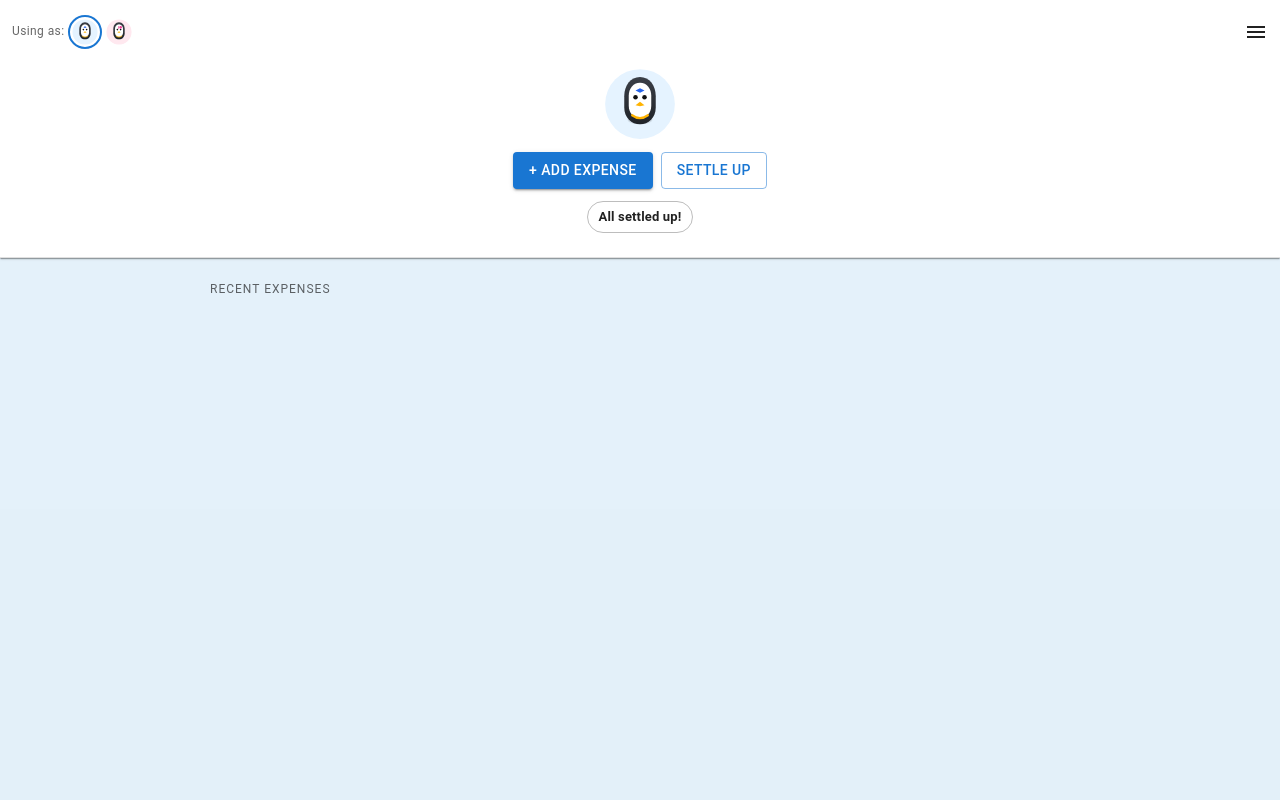
Test case: Create expense paid by someone else › shows "Paid by Alex" after creation and renders date on the left, details in the middle
// Open modal
Step 1. Click the button "+ Add expense" → [583, 170], box [513,152,653,188]
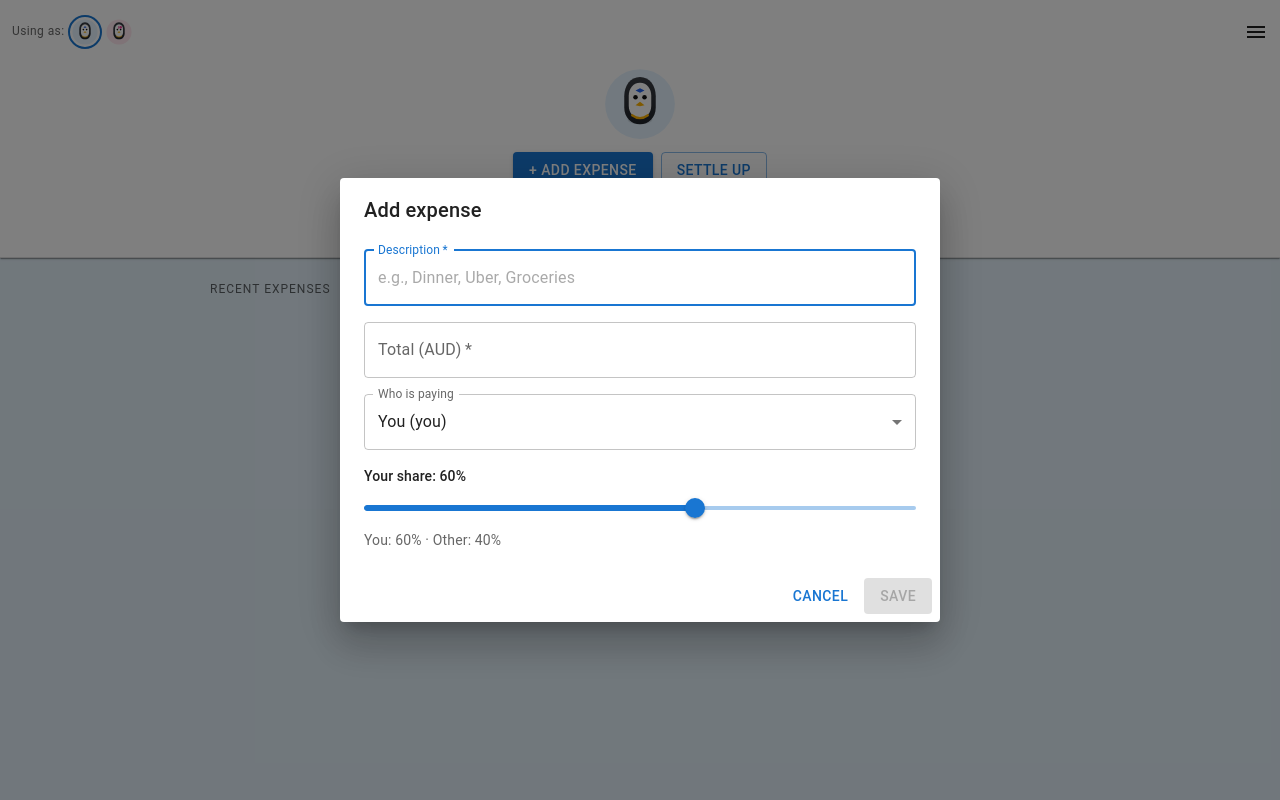
// Fill fields
Step 2. Type "Lunch with Alex" into the field labelled "Description *" → [640, 278], box [364,250,916,306]
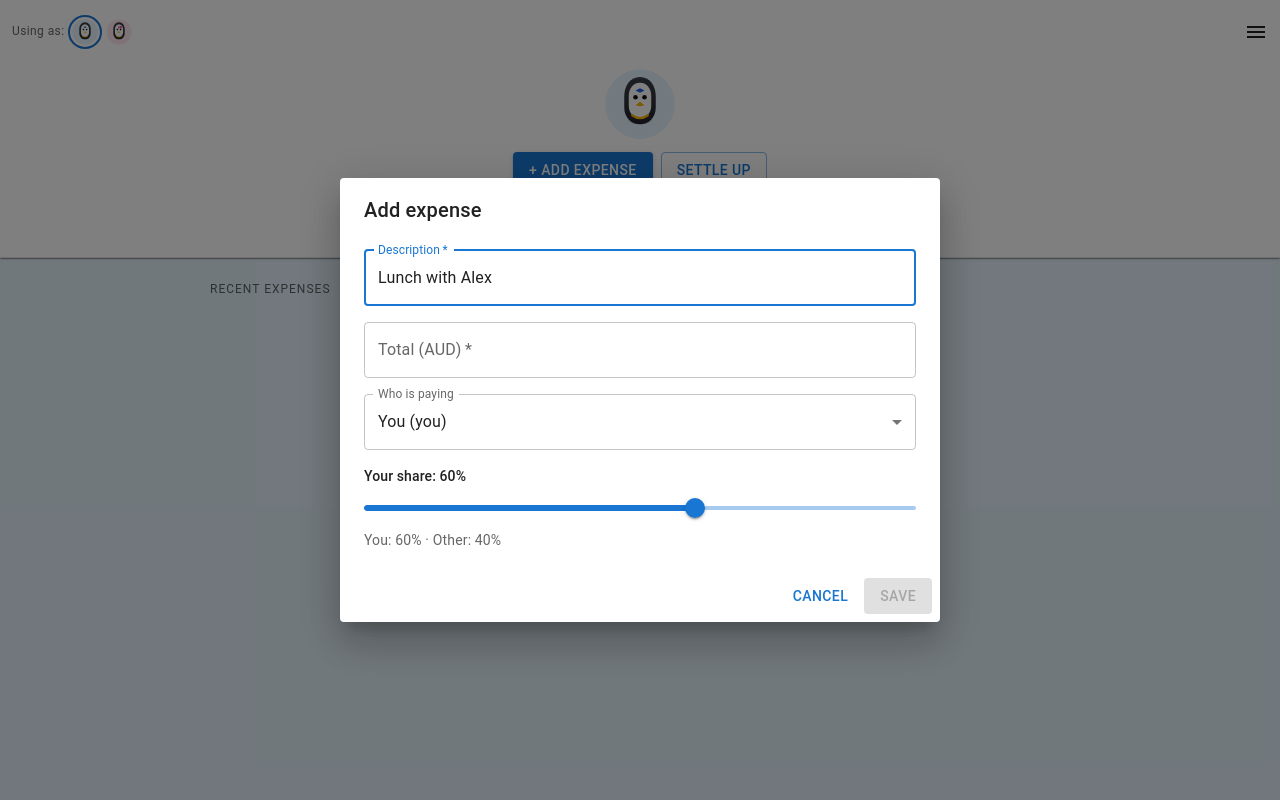
Step 3. Type "25" into the number field labelled "Total (AUD) *" → [640, 350], box [364,322,916,378]
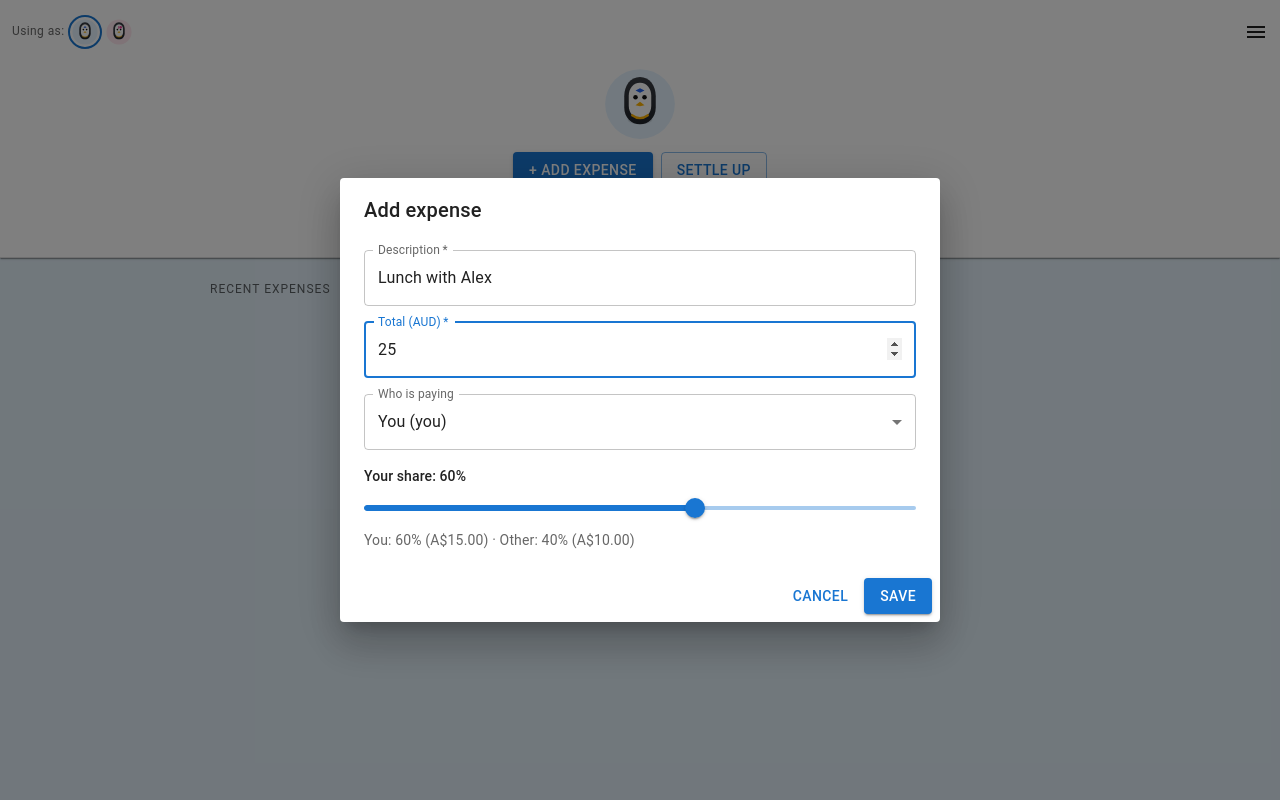
// Choose other person as payer (Alex)
Step 4. Click the dropdown named "who is paying" → [412, 422], box [378,412,447,431]
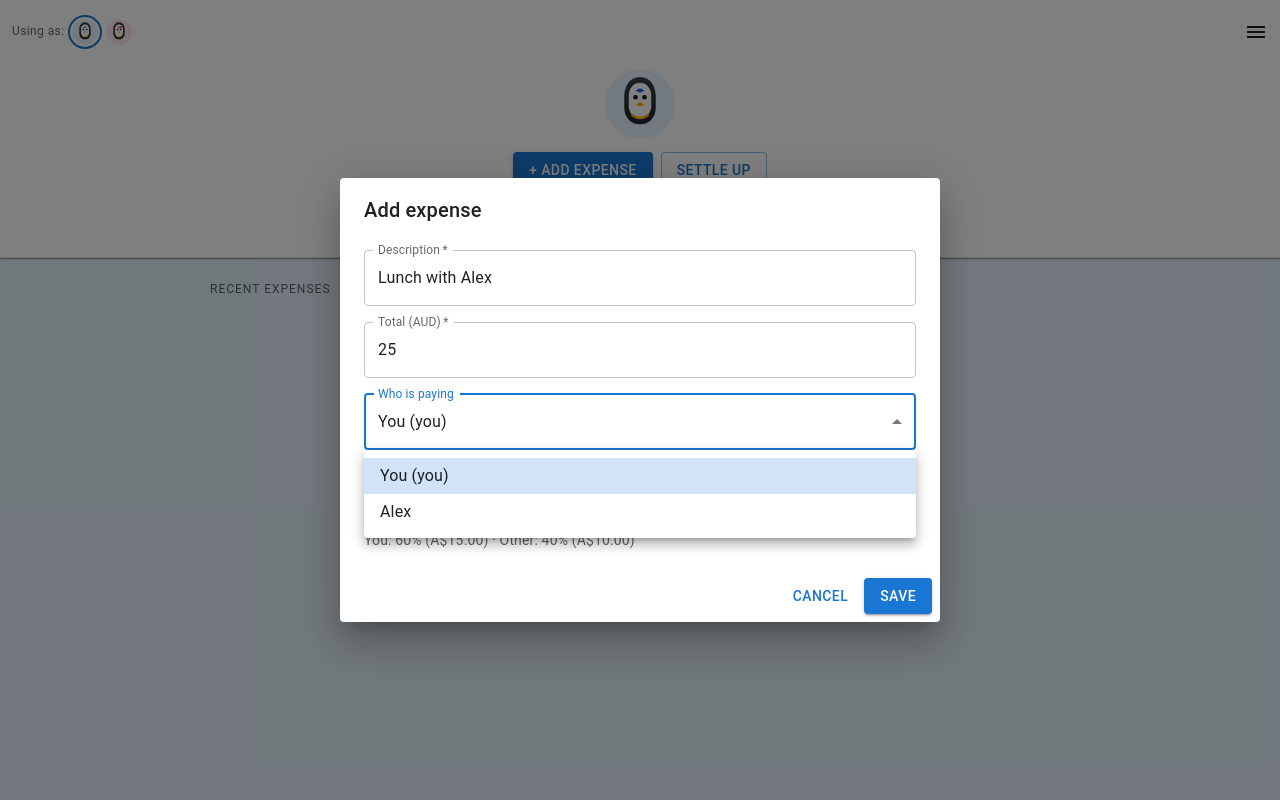
Step 5. Click the option "Alex" → [396, 512], box [380,502,411,521]
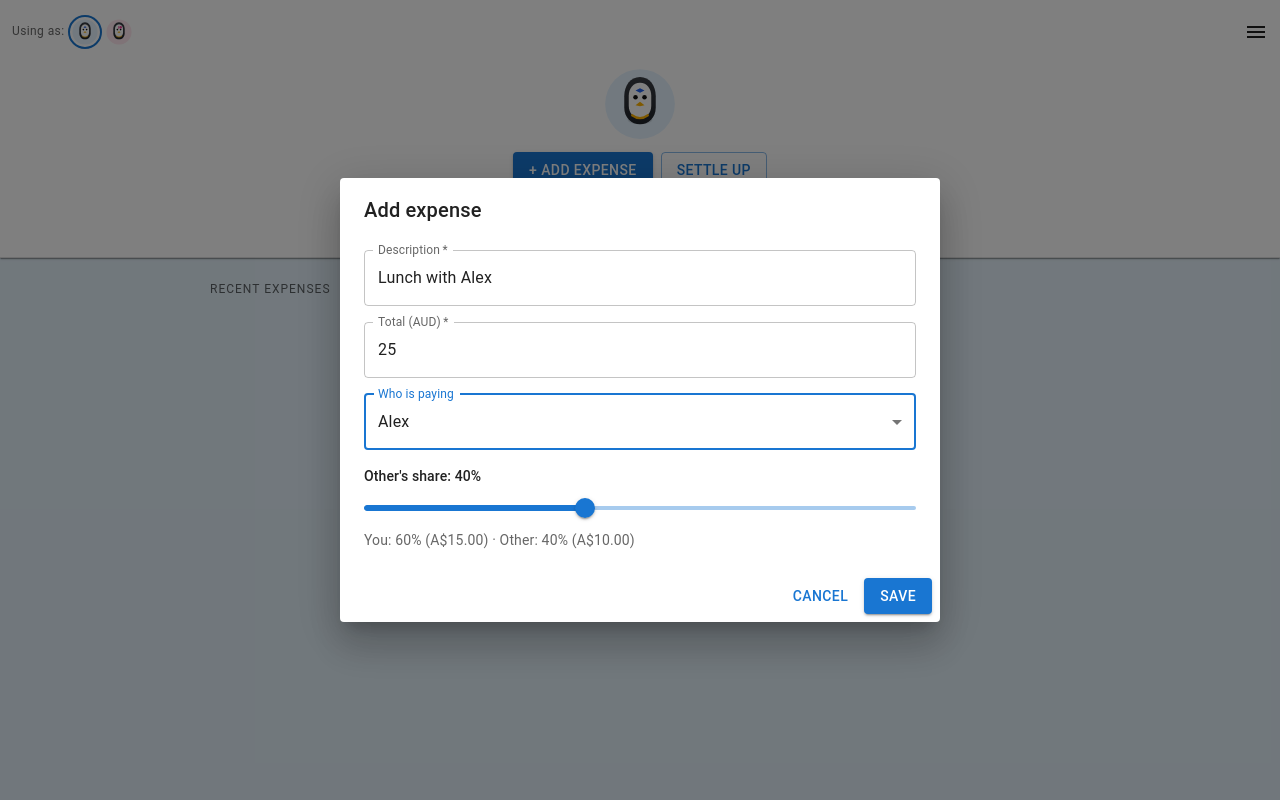
Step 6. Click the button "Save" → [898, 596], box [864,578,932,614]
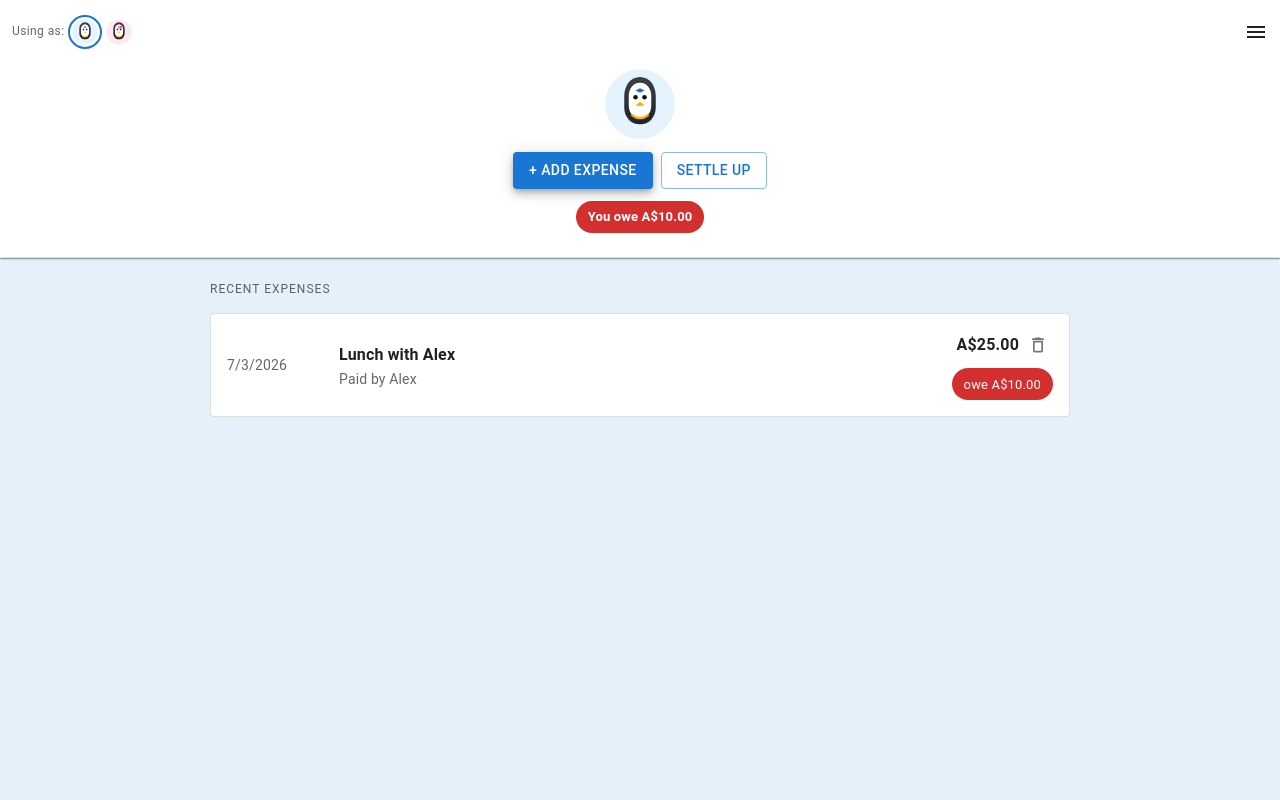
Expected: the text "Paid by Alex" is shown, [339,371,417,387]
Expected: the element with test id "expense-item" is shown, [210,313,1070,417]
Expected: the text "7/3/2026" is shown, [227,357,287,373]
